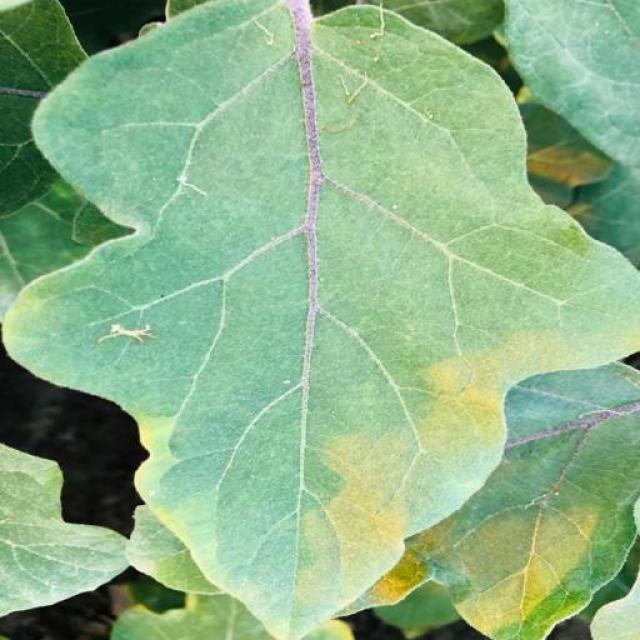leaf_spot: (108, 396, 242, 640), (292, 418, 436, 637), (408, 329, 640, 436), (452, 501, 608, 640), (250, 1, 397, 134), (528, 138, 632, 238), (477, 46, 557, 125), (103, 291, 175, 360), (1, 270, 52, 360)
